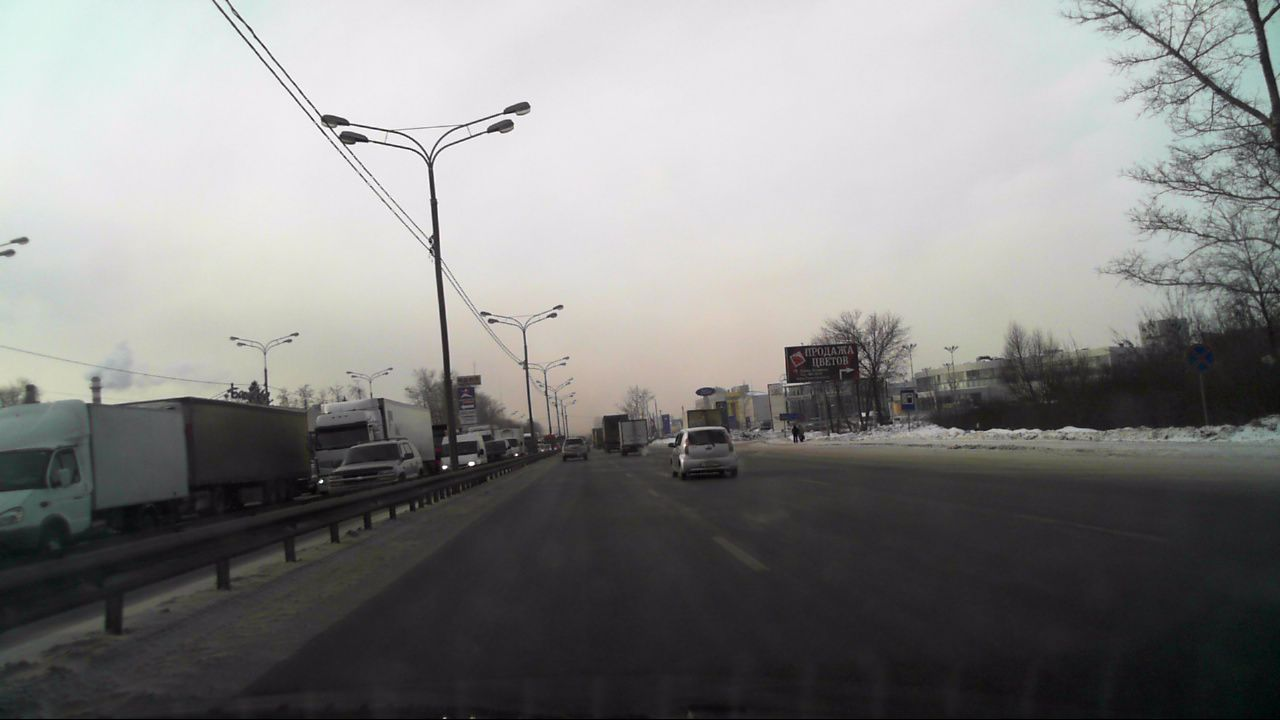No Parking: (1186, 345, 1213, 373)
